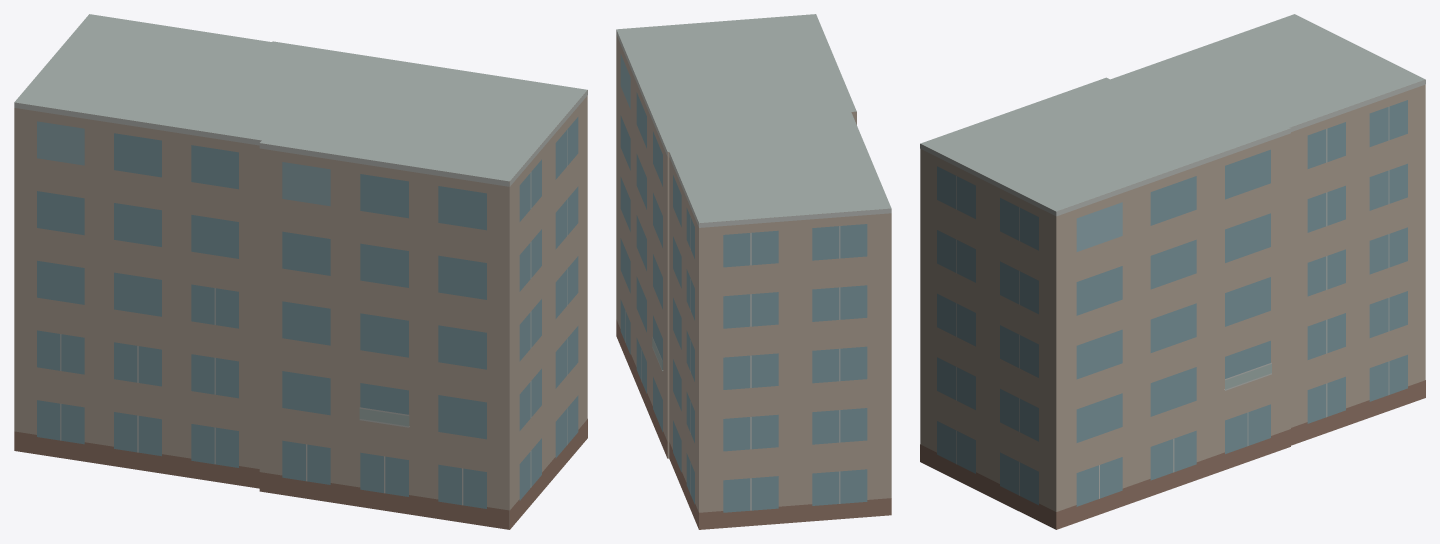
The model's file is survey-upis-32764270.glb.
3 renders of one model, left to right at view 1: azimuth 30°, elevation 25°; view 2: azimuth 150°, elevation 25°; view 3: azimuth 270°, elevation 25°, orthographic. The views are drawn at different scales.
Parts seen in each view (by area): view 1: survey-upis-32764270.tmp; view 2: survey-upis-32764270.tmp; view 3: survey-upis-32764270.tmp.
Boxes of the visible parts, x1,y1,x2,y2 form: survey-upis-32764270.tmp: [14, 14, 587, 529]; survey-upis-32764270.tmp: [616, 14, 891, 529]; survey-upis-32764270.tmp: [920, 14, 1425, 529].
Bounding box in the file's own units: 20.9 × 15.7 × 22.61.
